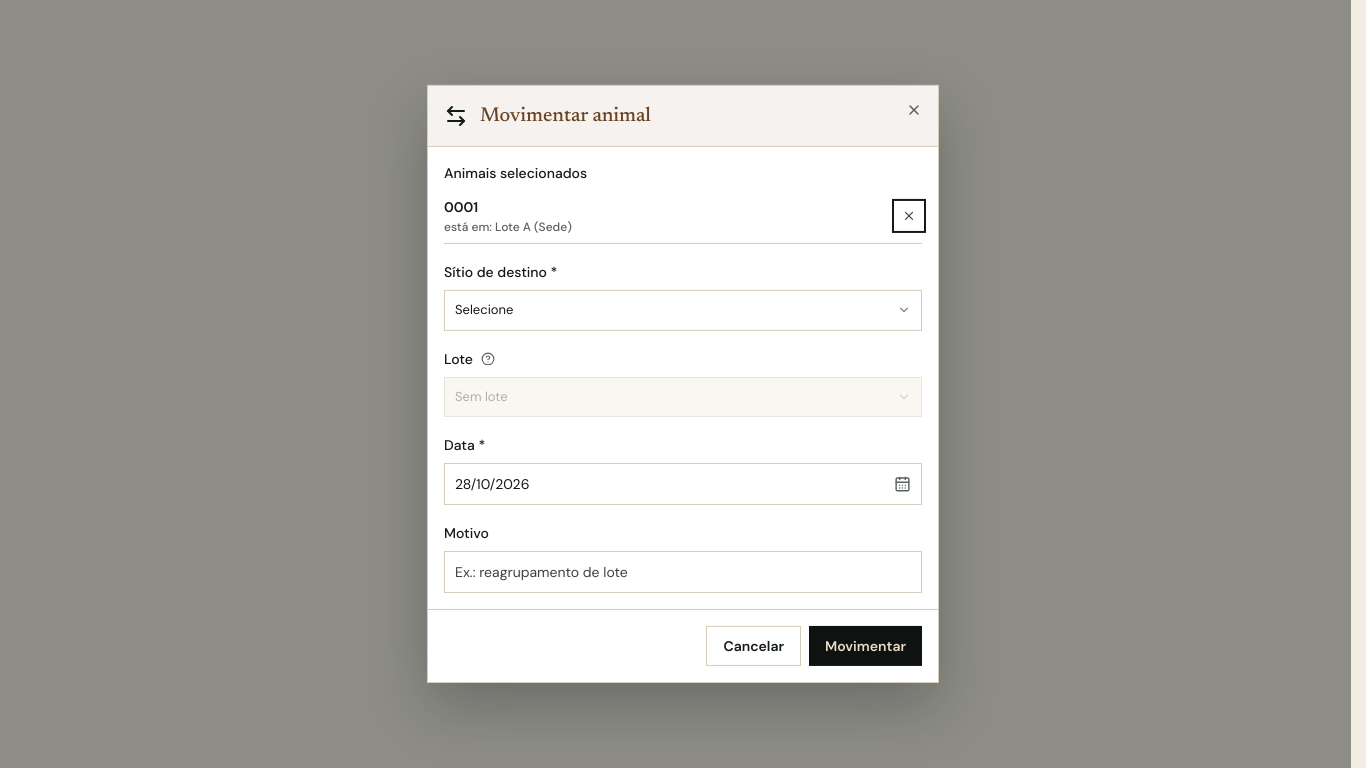
it: FormMovimentar › exige o sítio de destino antes de confirmar
The width and height of the screenshot is (1366, 768).
Click the button "Movimentar" at (866, 646), box [809,626,922,666]
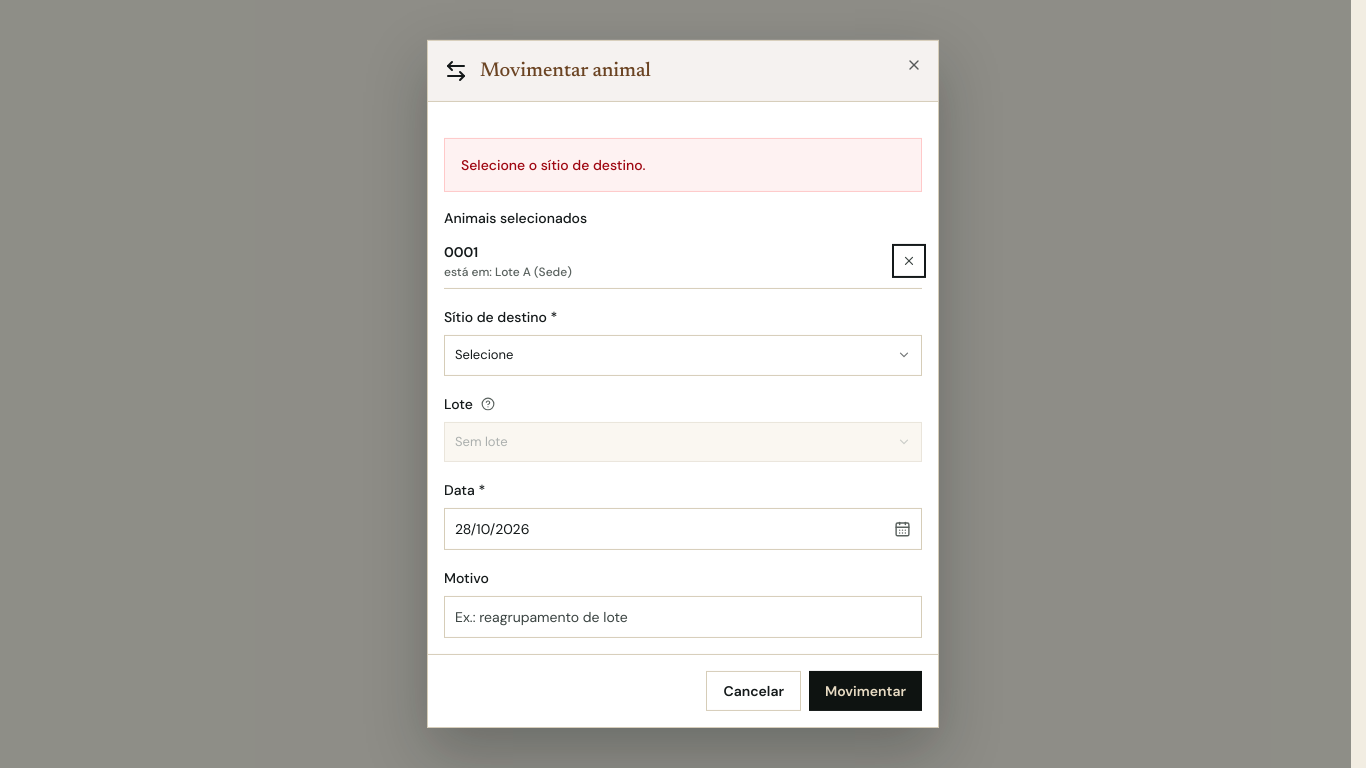
Check: the text "Selecione o sítio de destino." is shown, box [444,138,922,192]
